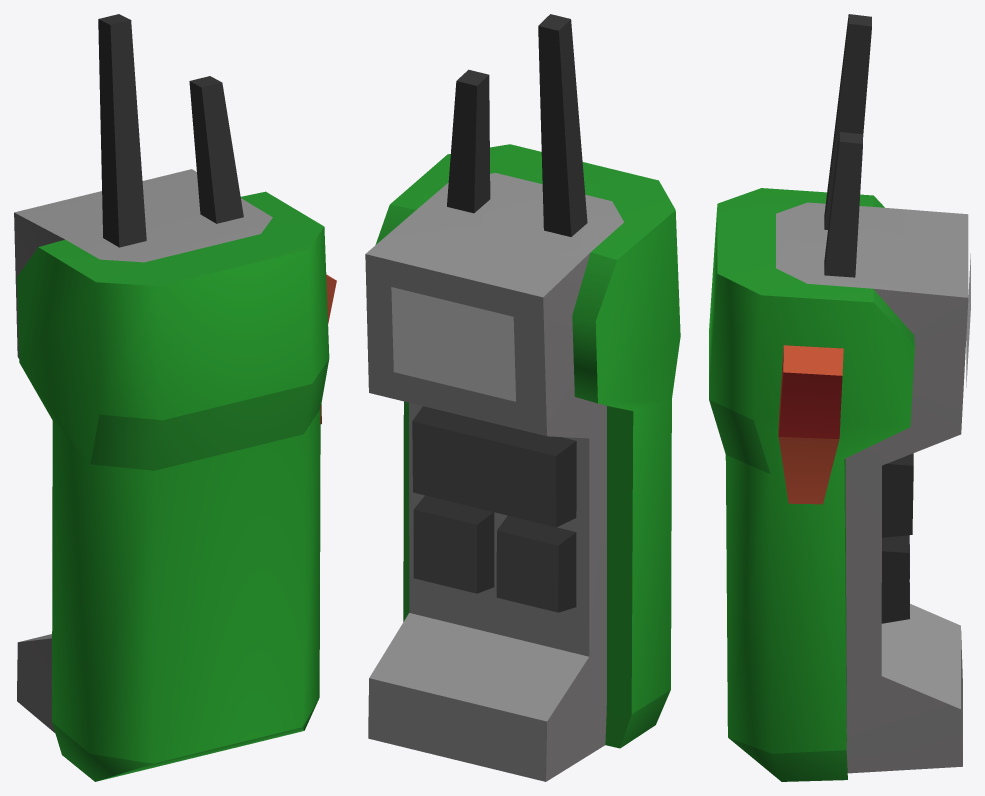
Rendered from StationBouncedRadio.fbx.
3 renders of one model, left to right at view 1: azimuth 30°, elevation 25°; view 2: azimuth 150°, elevation 25°; view 3: azimuth 270°, elevation 25°, orthographic. The views are drawn at different scales.
Visible parts, largest first — view 1: StationBouncedRadio; view 2: StationBouncedRadio; view 3: StationBouncedRadio.
Part boxes in pixels (x1,y1,x2,y2): StationBouncedRadio: (14, 14, 336, 781); StationBouncedRadio: (365, 14, 680, 781); StationBouncedRadio: (709, 14, 970, 781).
Bounding box in the file's own units: 0.1792 × 0.4867 × 0.1666.
